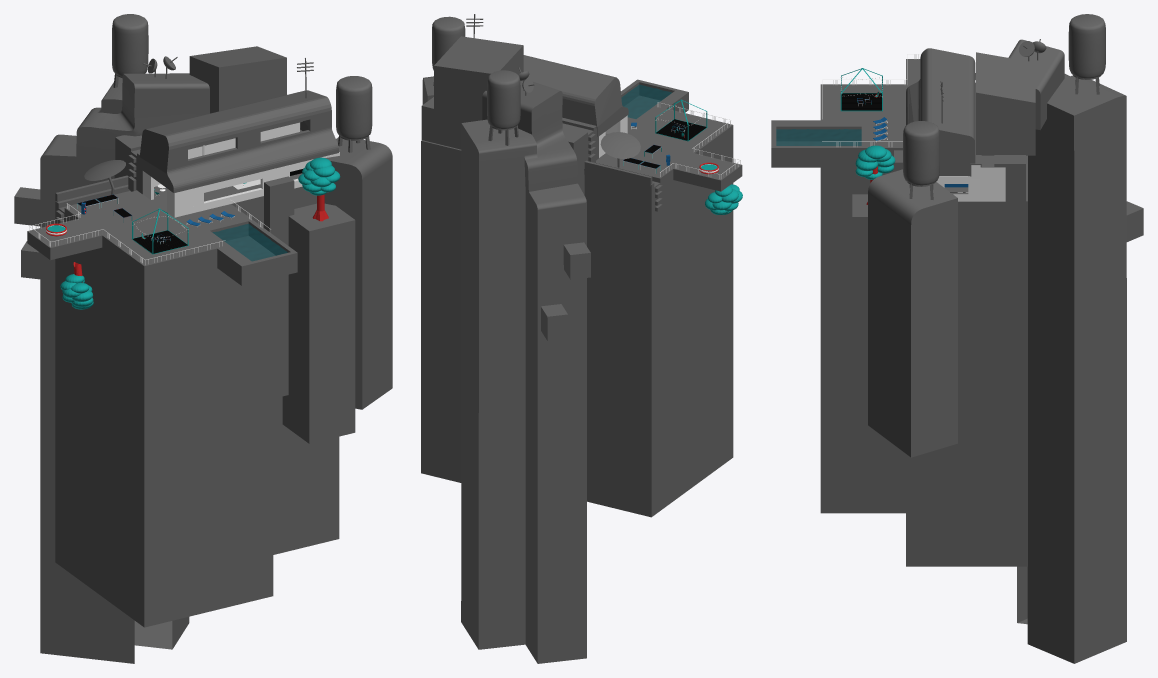
The picture shows the model from 3 angles, left to right: view 1: azimuth 30°, elevation 25°; view 2: azimuth 150°, elevation 25°; view 3: azimuth 270°, elevation 25°; orthographic projection. The views are drawn at different scales.
Parts seen in each view (by area): view 1: pCube1, pCube45, pCube4, volume bâtiment, pCube28, pCube29, pCube5, pCube41, pCube42, mur batiment transparente, eau piscine, arbre low poly (+10 smaller); view 2: pCube1, pCube45, pCube29, volume bâtiment, old mur biblio, pCube42, pCube41, eau piscine, pCube34, pCube35, pCone3, Table jardin001 (+3 smaller); view 3: pCube45, pCube1, pCube28, volume bâtiment, pCube29, pCube4, pCube42, pCube41, old mur biblio, eau piscine, arbre low poly, Table jardin001 (+2 smaller).
Part boxes in pixels (box(x1,y1,x2,y2)): pCube1: box(27, 173, 339, 627); pCube45: box(40, 73, 209, 663); pCube4: box(282, 203, 355, 443); volume bâtiment: box(139, 90, 338, 192); pCube28: box(324, 137, 392, 409); pCube29: box(189, 46, 286, 113); pCube5: box(264, 176, 294, 398); pCube41: box(336, 76, 372, 152); pCube42: box(112, 14, 148, 87); mur batiment transparente: box(143, 127, 339, 210); eau piscine: box(212, 224, 287, 261); arbre low poly: box(298, 157, 340, 221); pCube1: box(421, 79, 742, 517); pCube45: box(461, 79, 586, 663); pCube29: box(434, 36, 523, 121); volume bâtiment: box(523, 55, 628, 137); old mur biblio: box(421, 97, 598, 173); pCube42: box(487, 70, 520, 145); pCube41: box(432, 16, 465, 85); eau piscine: box(621, 84, 671, 118); pCube34: box(563, 242, 590, 279); pCube35: box(541, 304, 568, 341); pCone3: box(600, 132, 640, 158); Table jardin001: box(655, 99, 707, 141); pCube45: box(1008, 39, 1126, 663); pCube1: box(771, 59, 1027, 566); pCube28: box(868, 169, 957, 457); volume bâtiment: box(906, 48, 975, 176); pCube29: box(976, 52, 1035, 155); pCube4: box(852, 194, 876, 431); pCube42: box(1068, 14, 1105, 94); pCube41: box(903, 121, 939, 199); old mur biblio: box(970, 82, 1025, 206); eau piscine: box(776, 129, 861, 145); arbre low poly: box(855, 145, 895, 204); Table jardin001: box(840, 68, 882, 111).
Size of the model in its own units: 6154 by 10417 by 5695.
